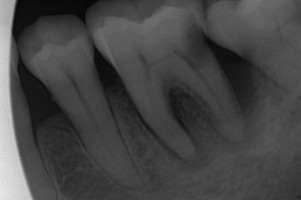Dental Caries: (141, 61, 260, 169)
